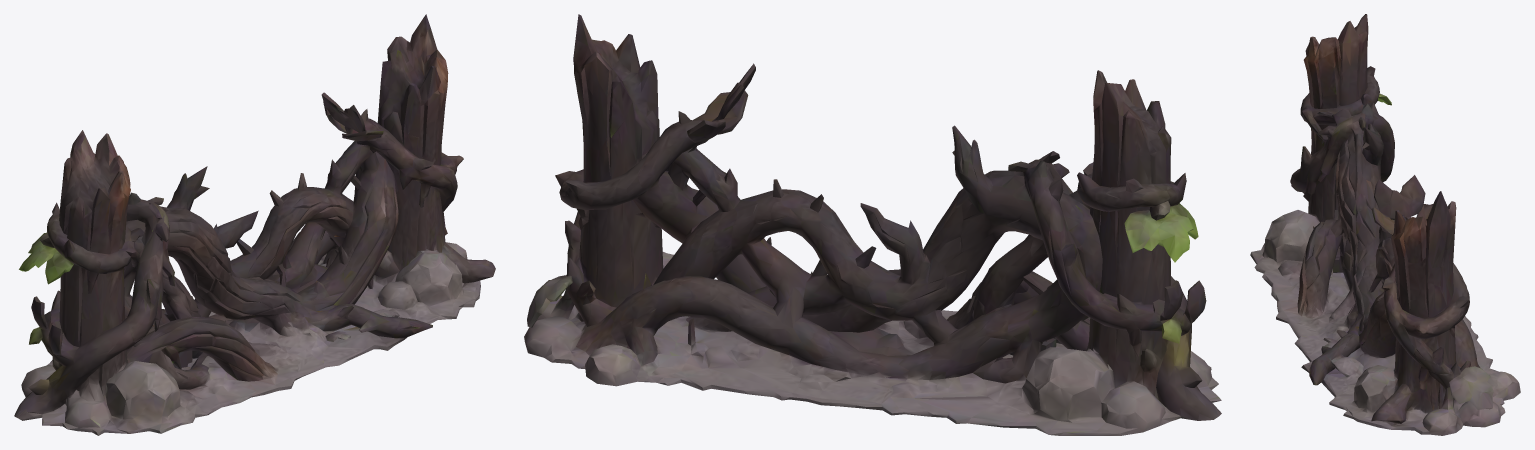
File: tronco_seco.glb
3 renders of one model, left to right at view 1: azimuth 30°, elevation 25°; view 2: azimuth 150°, elevation 25°; view 3: azimuth 270°, elevation 25°, orthographic. The views are drawn at different scales.
Parts seen in each view (by area): view 1: tronco_seco_malla; view 2: tronco_seco_malla; view 3: tronco_seco_malla.
Part boxes in pixels (left/top/right/bottom): tronco_seco_malla: left=14, top=14, right=495, bottom=435; tronco_seco_malla: left=524, top=14, right=1221, bottom=435; tronco_seco_malla: left=1250, top=14, right=1520, bottom=435.
Size of the model in its own units: 0.3958 by 0.1984 by 0.2041.
1 material, 1 textured.
